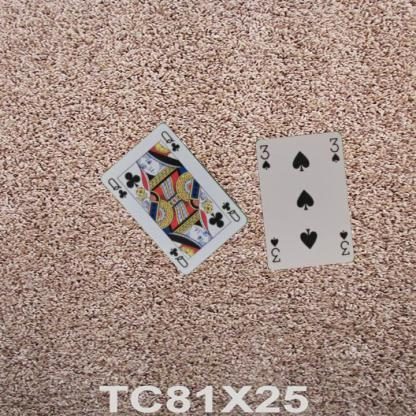3s: (257, 142, 272, 171), (337, 228, 351, 257)
Qc: (105, 175, 129, 200), (219, 199, 242, 222)
